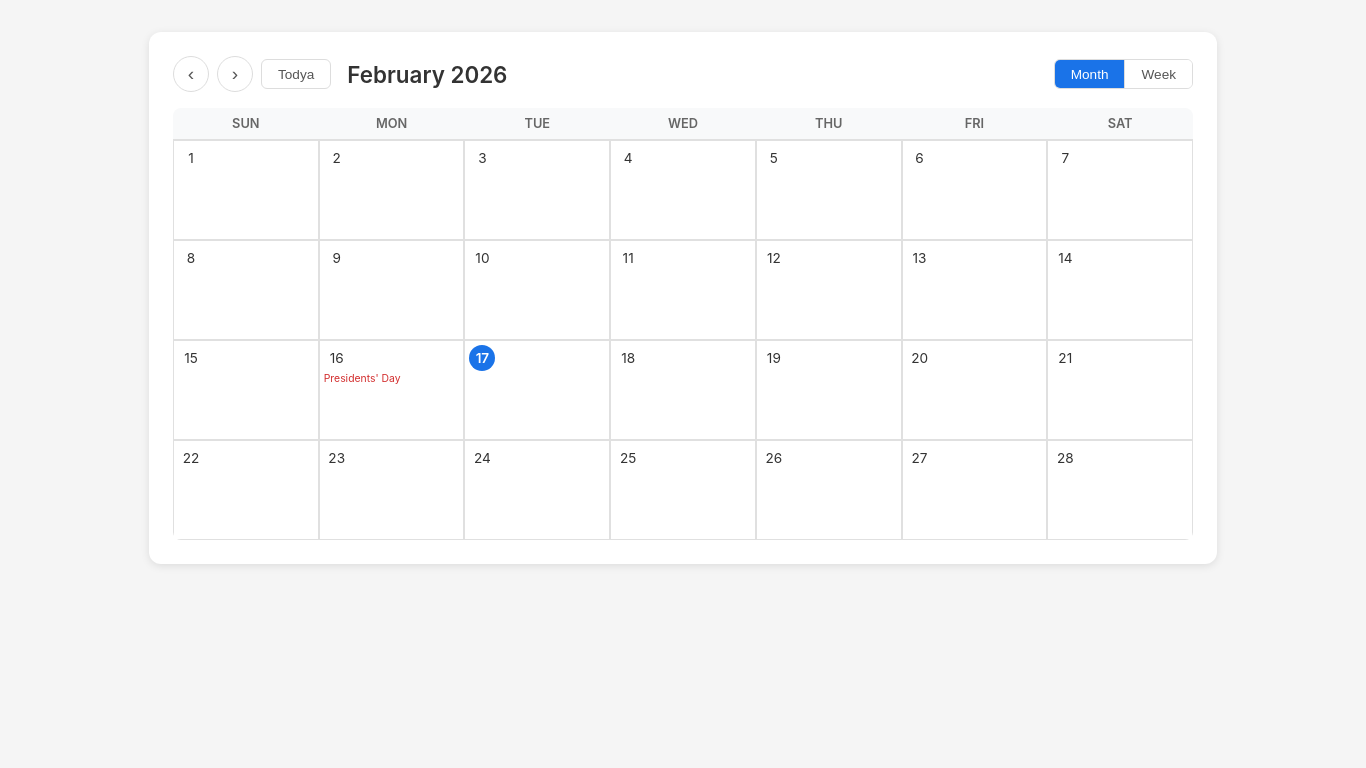
Test: Calendar App › shows validation error for empty title
Click the element with class "month-day-cell" showing "11" at point(683, 290), box x1=610 y1=240 x2=756 y2=340
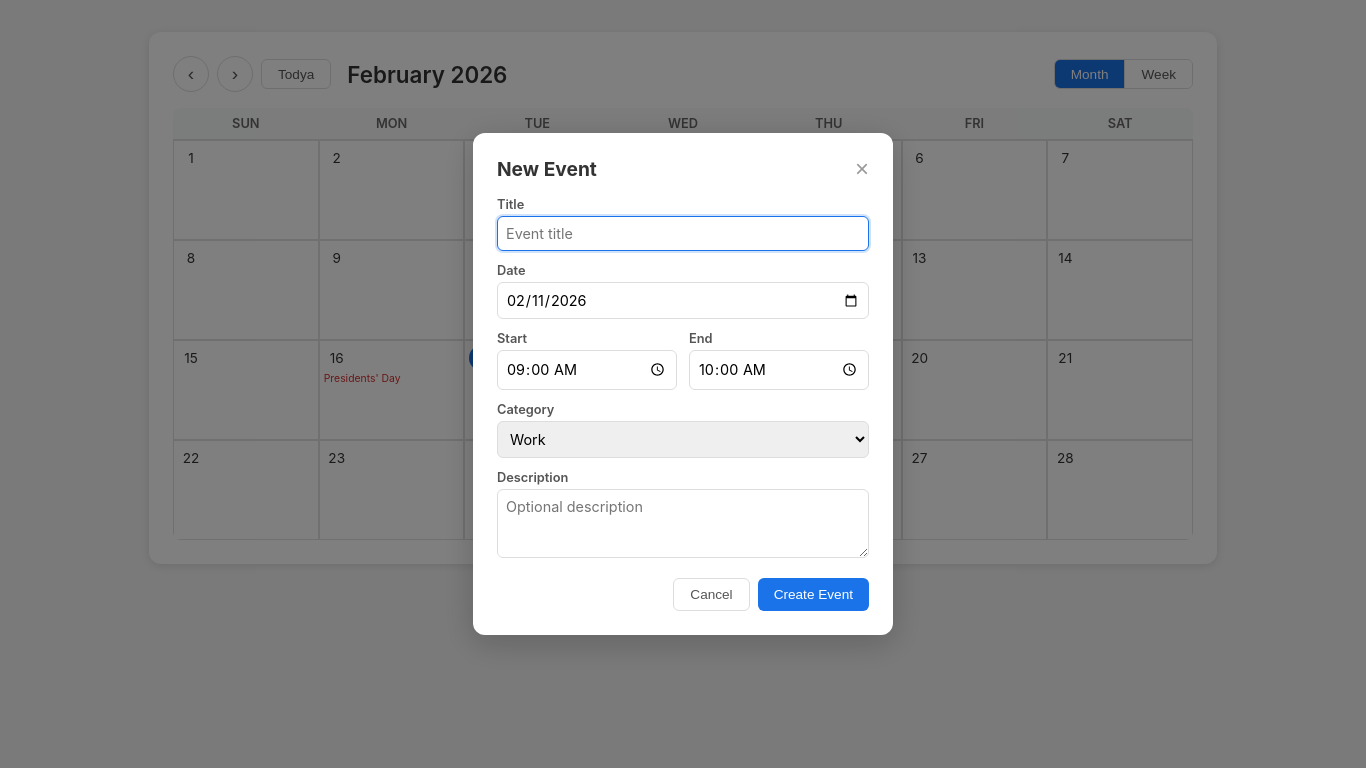
Click the button "Create Event" at point(813, 594), box x1=758 y1=578 x2=869 y2=610
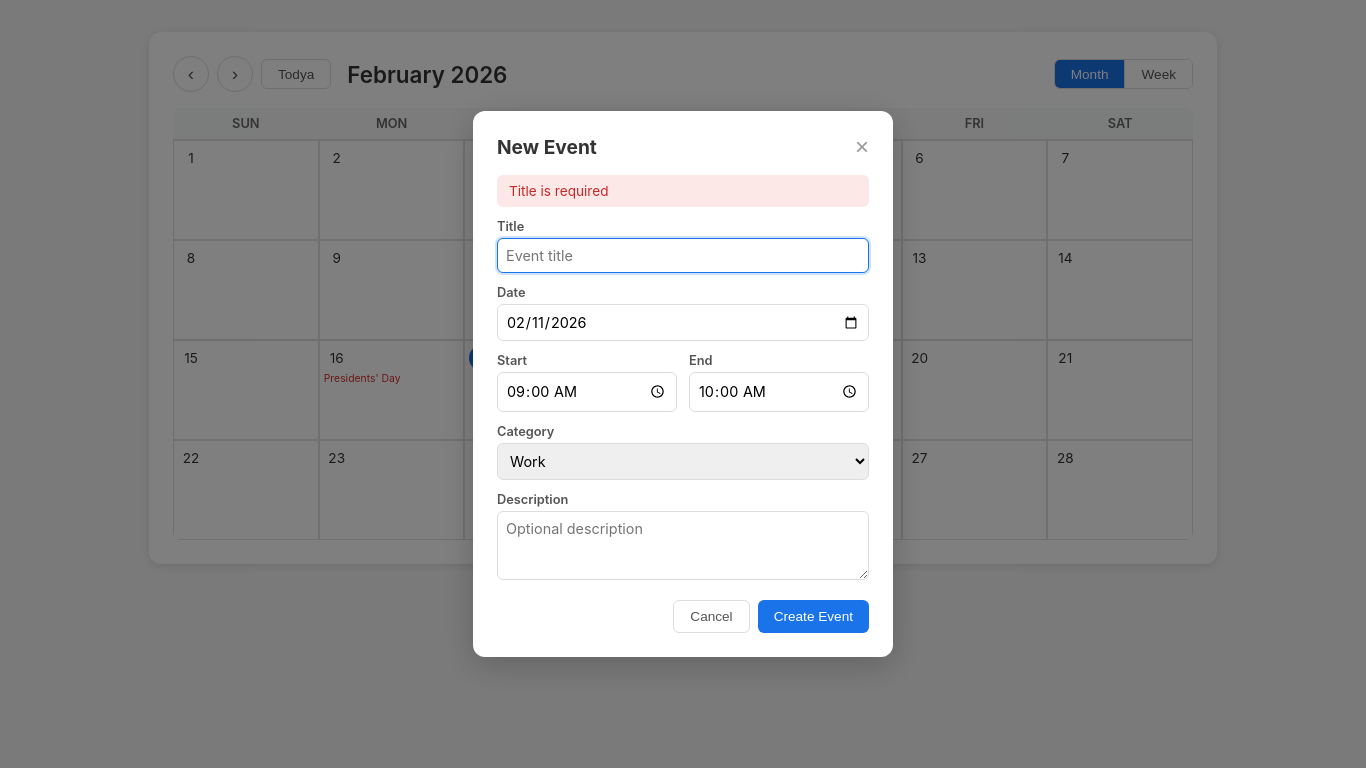
Check: the text "Title is required" is shown, box x1=497 y1=175 x2=869 y2=207
